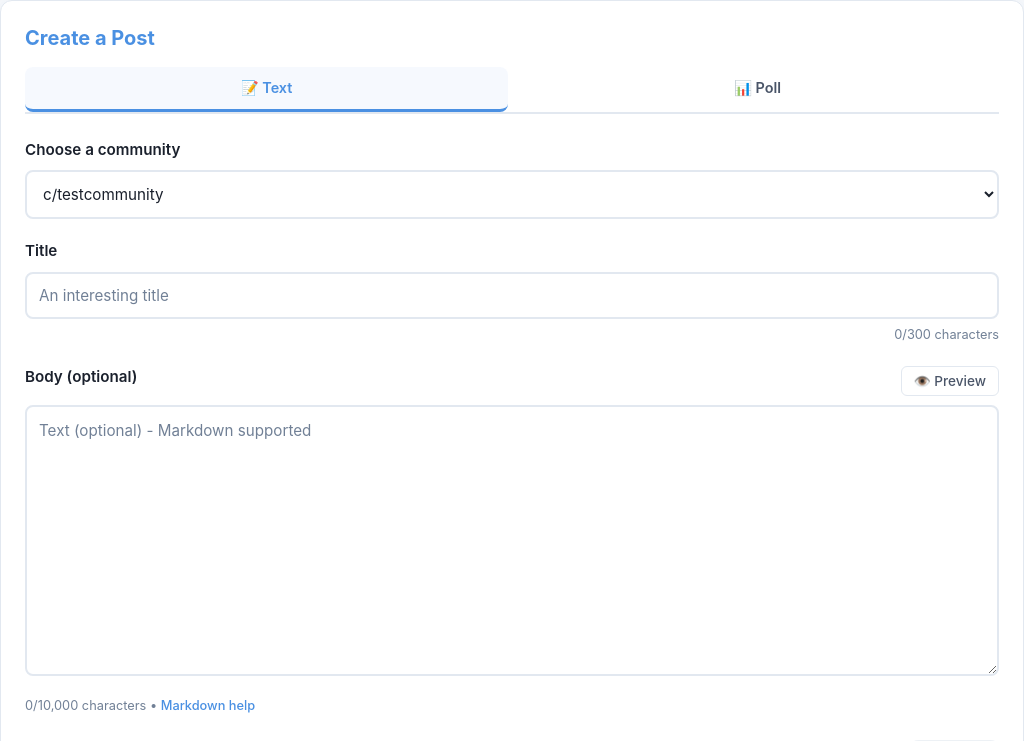
Test case: CreatePostForm Component › should show character count for title
Expected: the text "0/300 characters" is shown, [894, 327, 999, 342]
Type "Test" into the field labelled "Title". click: [512, 295]
box: [25, 272, 999, 319]
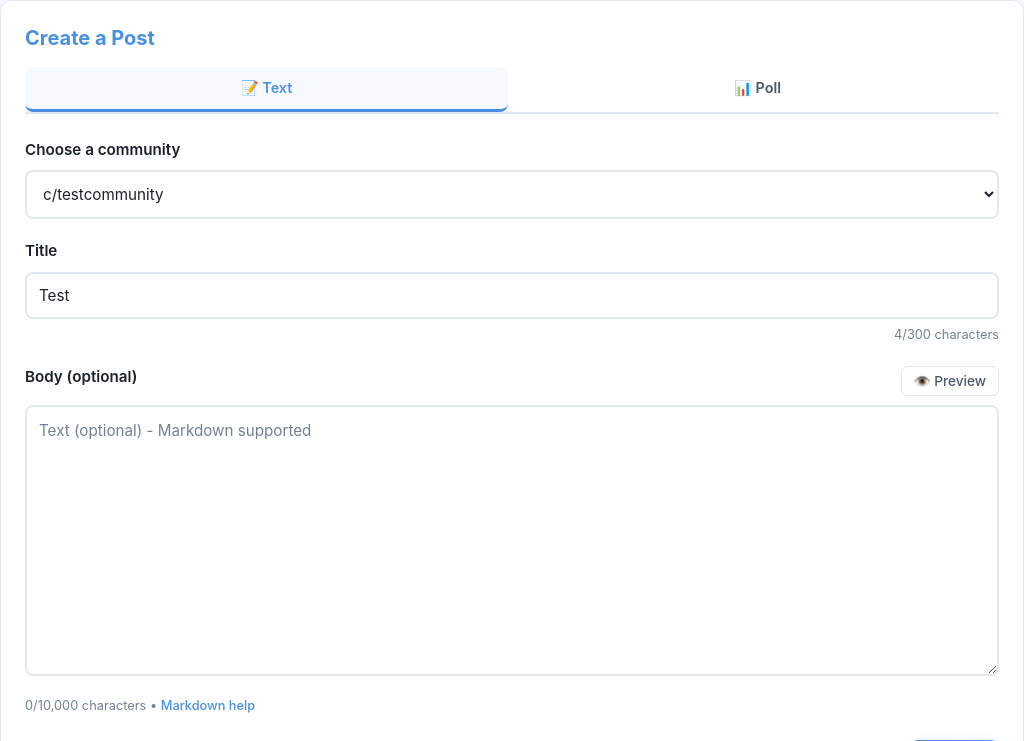
Result: the text "4/300 characters" is shown at [894, 327, 999, 342]
